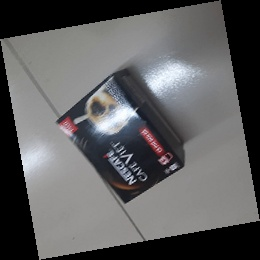CF Viet: (54, 67, 186, 204)
